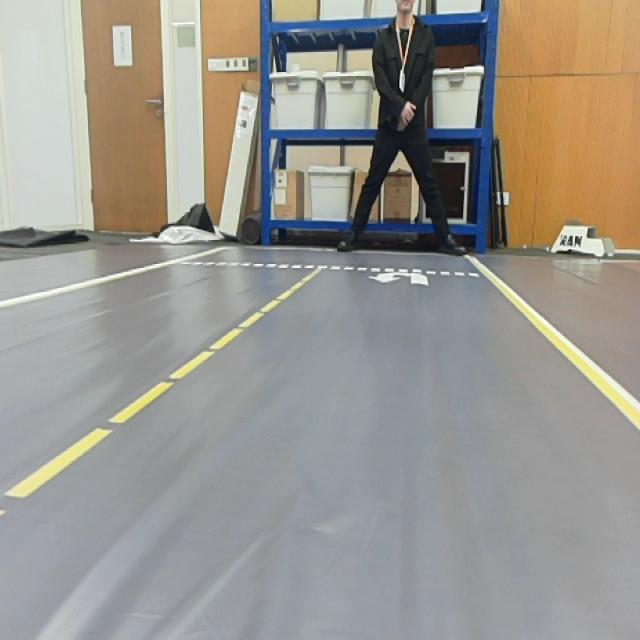left_lane: (0, 267, 322, 519)
right_lane: (472, 256, 640, 428), (1, 244, 232, 310)
